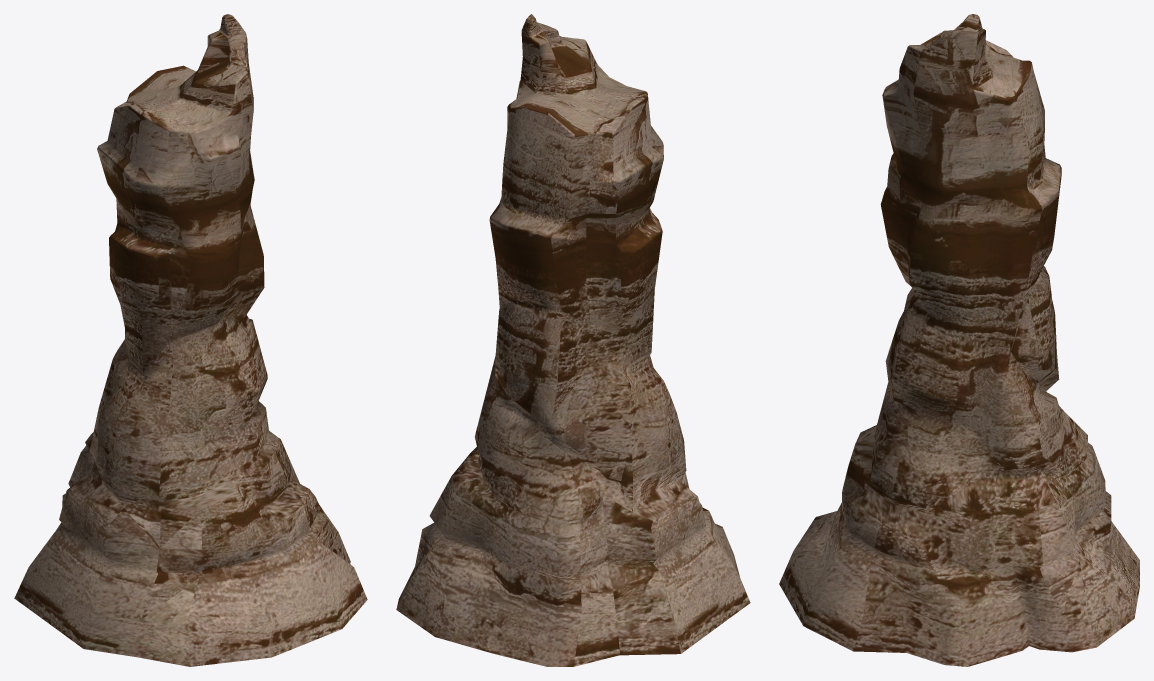
File: rock_pillar_large01.dae
3 views of the same model, side by side, from view 1: azimuth 30°, elevation 25°; view 2: azimuth 150°, elevation 25°; view 3: azimuth 270°, elevation 25° (orthographic). The views are drawn at different scales.
Parts seen in each view (by area): view 1: Mesh; view 2: Mesh; view 3: Mesh.
Boxes of the visible parts, box(x1,y1,x2,y2) form: Mesh: box(14, 14, 367, 666); Mesh: box(396, 14, 750, 666); Mesh: box(779, 14, 1139, 666).
Size of the model in its own units: 24.67 by 45.29 by 24.89.
